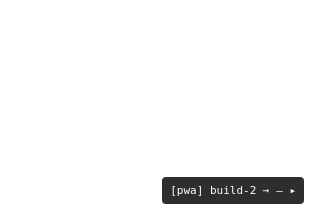
Test: PwaUpdateDebugPanel › readiness gate › renders 'applied' transition when state is valid
Click the button: [233, 190] box [170,183,296,198]
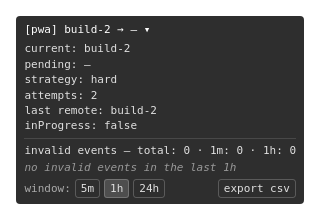
Now the text "current: build-2" is shown, box [24,42,130,56]
Now the text "pending: —" is shown, box [24,58,91,71]
Now the text "attempts: 2" is shown, box [24,89,97,102]
